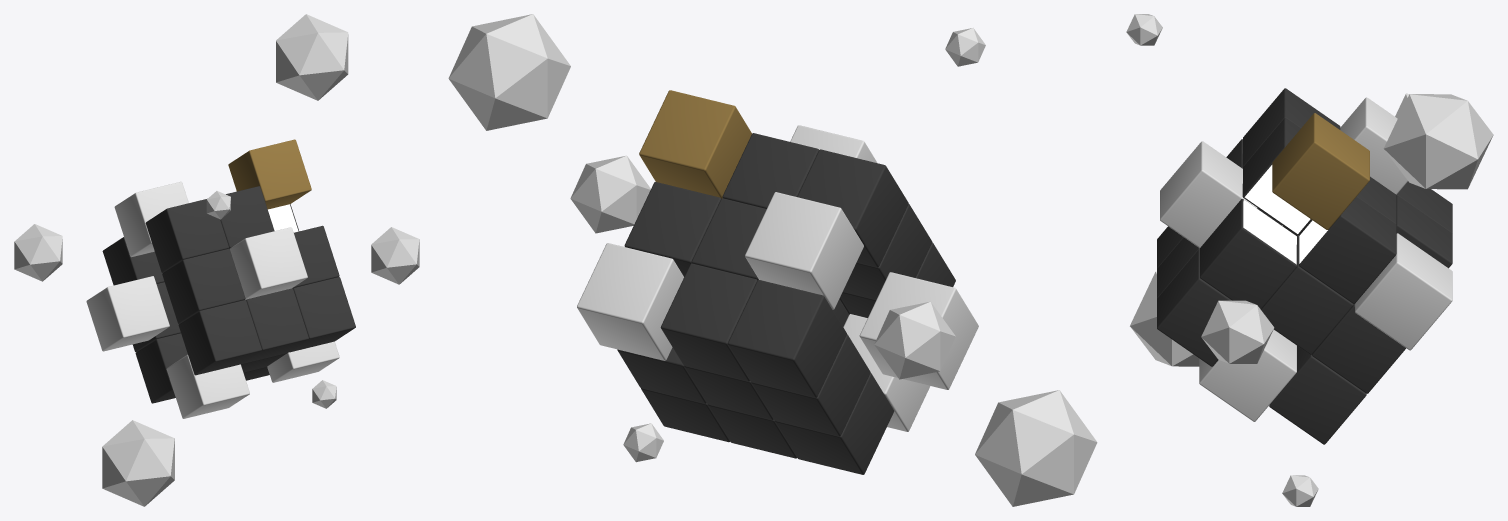
3 views of the same model, side by side, from view 1: azimuth 30°, elevation 25°; view 2: azimuth 150°, elevation 25°; view 3: azimuth 270°, elevation 25° (orthographic). The views are drawn at different scales.
Parts seen in each view (by area): view 1: ChamferBox184, Hedra001.002, Hedra001.004, ChamferBox187, ChamferBox183, ChamferBox182, ChamferBox185, ChamferBox188, Hedra001.001, Hedra001.005, ChamferBox186, Group60444 (+2 smaller); view 2: ChamferBox184, Hedra001.002, Hedra001.004, ChamferBox188, ChamferBox189, ChamferBox182, ChamferBox187, Hedra001.005, Hedra001.001, ChamferBox185, ChamferBox183, Hedra001 (+1 smaller); view 3: ChamferBox184, Hedra001.004, ChamferBox182, ChamferBox189, ChamferBox183, ChamferBox186, Group60444, Hedra001.001, ChamferBox188, Hedra001.002, Hedra001.003, Hedra001.
Part boxes in pixels (bbox=[...]): ChamferBox184: bbox=[102, 186, 355, 403]; Hedra001.002: bbox=[102, 420, 174, 506]; Hedra001.004: bbox=[276, 14, 348, 100]; ChamferBox187: bbox=[86, 276, 169, 351]; ChamferBox183: bbox=[230, 227, 307, 299]; ChamferBox182: bbox=[228, 139, 311, 209]; ChamferBox185: bbox=[166, 354, 249, 418]; ChamferBox188: bbox=[114, 181, 188, 257]; Hedra001.001: bbox=[371, 227, 419, 284]; Hedra001.005: bbox=[14, 224, 62, 281]; ChamferBox186: bbox=[267, 341, 339, 382]; Group60444: bbox=[268, 204, 298, 232]; ChamferBox184: bbox=[617, 133, 955, 474]; Hedra001.002: bbox=[975, 390, 1097, 506]; Hedra001.004: bbox=[448, 14, 570, 130]; ChamferBox188: bbox=[745, 192, 863, 309]; ChamferBox189: bbox=[577, 243, 683, 360]; ChamferBox182: bbox=[639, 90, 751, 198]; ChamferBox187: bbox=[859, 272, 978, 389]; Hedra001.005: bbox=[874, 301, 955, 379]; Hedra001.001: bbox=[570, 155, 650, 233]; ChamferBox185: bbox=[843, 314, 930, 431]; ChamferBox183: bbox=[790, 125, 877, 163]; Hedra001: bbox=[945, 28, 985, 66]; ChamferBox184: bbox=[1157, 88, 1452, 444]; Hedra001.004: bbox=[1383, 94, 1493, 189]; ChamferBox182: bbox=[1272, 113, 1369, 229]; ChamferBox189: bbox=[1355, 233, 1452, 350]; ChamferBox183: bbox=[1160, 141, 1257, 247]; ChamferBox186: bbox=[1199, 329, 1296, 421]; Group60444: bbox=[1243, 165, 1327, 264]; Hedra001.001: bbox=[1201, 300, 1274, 363]; ChamferBox188: bbox=[1340, 97, 1407, 194]; Hedra001.002: bbox=[1130, 271, 1199, 366]; Hedra001.003: bbox=[1282, 475, 1318, 506]; Hedra001: bbox=[1126, 14, 1162, 45].
Bounding box in the file's own units: 309 × 298 × 227.
